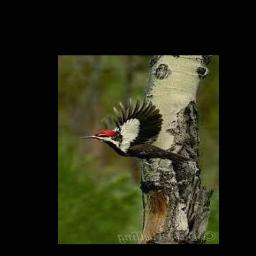Woodpecker: (81, 97, 194, 165)
